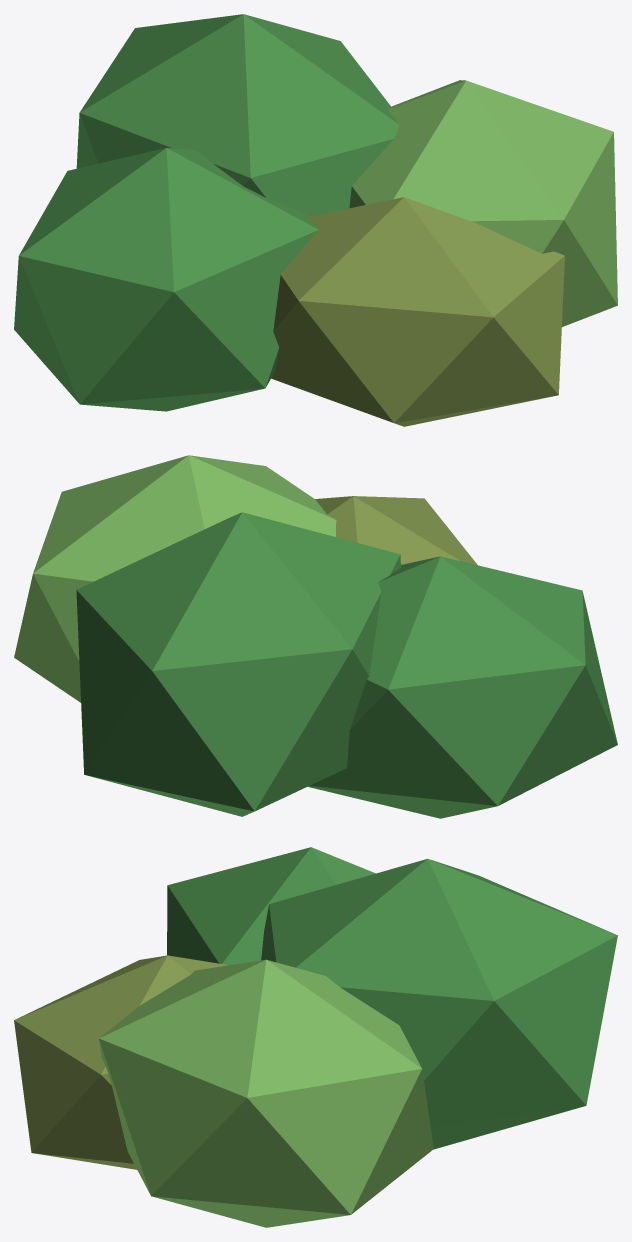
The model's file is shrub_low_1p2m.glb.
3 views of the same model, one above another, from view 1: azimuth 30°, elevation 25°; view 2: azimuth 150°, elevation 25°; view 3: azimuth 270°, elevation 25° (orthographic). The views are drawn at different scales.
Visible parts, largest first — view 1: shrub_low_mass_01, shrub_low_mass_04, shrub_low_mass_03, shrub_low_mass_02; view 2: shrub_low_mass_03, shrub_low_mass_01, shrub_low_mass_02, shrub_low_mass_04; view 3: shrub_low_mass_02, shrub_low_mass_03, shrub_low_mass_04, shrub_low_mass_01.
Part boxes in pixels (x1,y1,x2,y2): shrub_low_mass_01: (14, 148, 318, 411); shrub_low_mass_04: (271, 197, 564, 426); shrub_low_mass_03: (76, 14, 399, 216); shrub_low_mass_02: (349, 80, 617, 326); shrub_low_mass_03: (76, 512, 400, 816); shrub_low_mass_01: (308, 556, 617, 818); shrub_low_mass_02: (14, 455, 336, 702); shrub_low_mass_04: (315, 496, 477, 565); shrub_low_mass_02: (99, 959, 433, 1227); shrub_low_mass_03: (261, 858, 617, 1149); shrub_low_mass_04: (14, 955, 228, 1169); shrub_low_mass_01: (167, 847, 375, 965).
Size of the model in its own units: 1.38 by 0.75 by 1.35.
